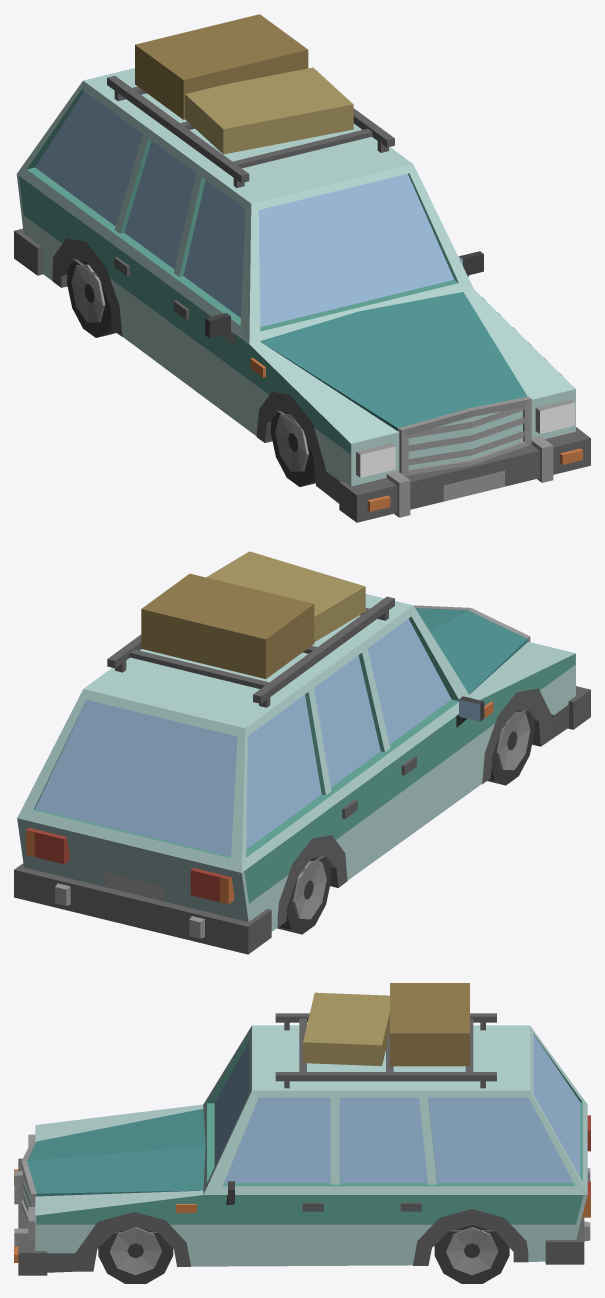
The model's file is transport_old_010.fbx.
The picture shows the model from 3 angles, top to bottom: view 1: azimuth 30°, elevation 25°; view 2: azimuth 150°, elevation 25°; view 3: azimuth 270°, elevation 25°; orthographic projection. The views are drawn at different scales.
Parts seen in each view (by area): view 1: transport_old_010; view 2: transport_old_010; view 3: transport_old_010.
Part boxes in pixels (x1=…): transport_old_010: x1=14, y1=14, x2=590, y2=522; transport_old_010: x1=14, y1=551, x2=590, y2=954; transport_old_010: x1=14, y1=983, x2=590, y2=1283.
Bounding box in the file's own units: 148 × 143 × 326.
